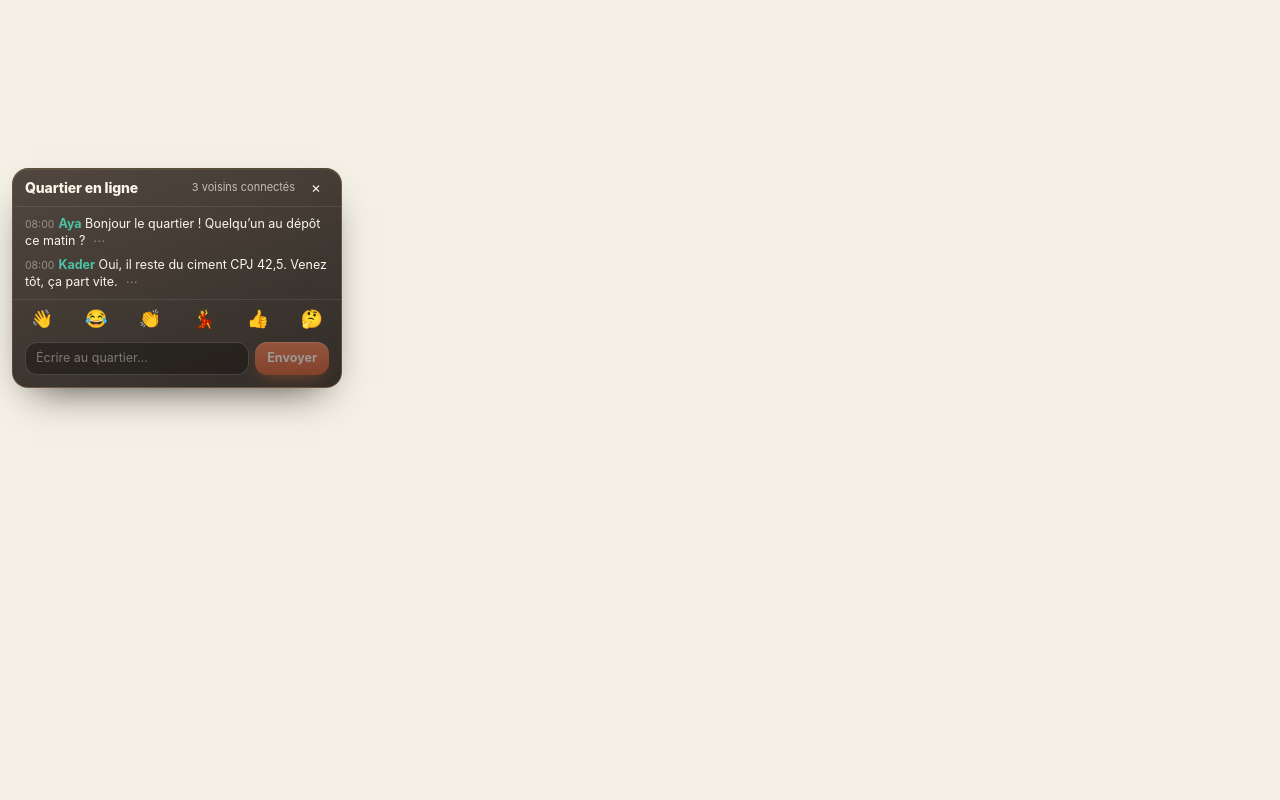
Test case: signaler un message et masquer un joueur › ne propose pas de signaler ses propres messages
The width and height of the screenshot is (1280, 800).
Type "Je passe au dépôt" into the field named "Message au quartier".
click(137, 359); type("Je passe au dépôt")  # box [25, 342, 249, 375]
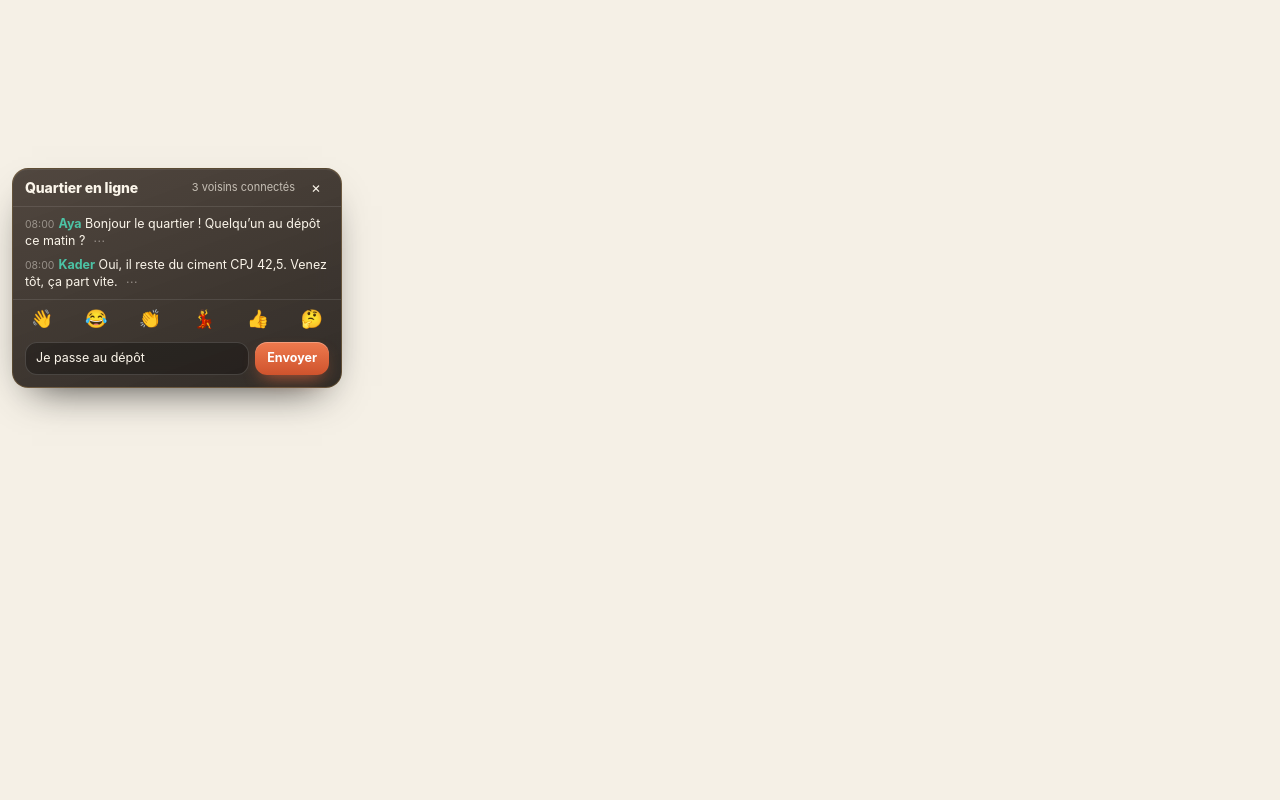
Click the button "Envoyer".
click(292, 359)  # box [255, 342, 329, 375]
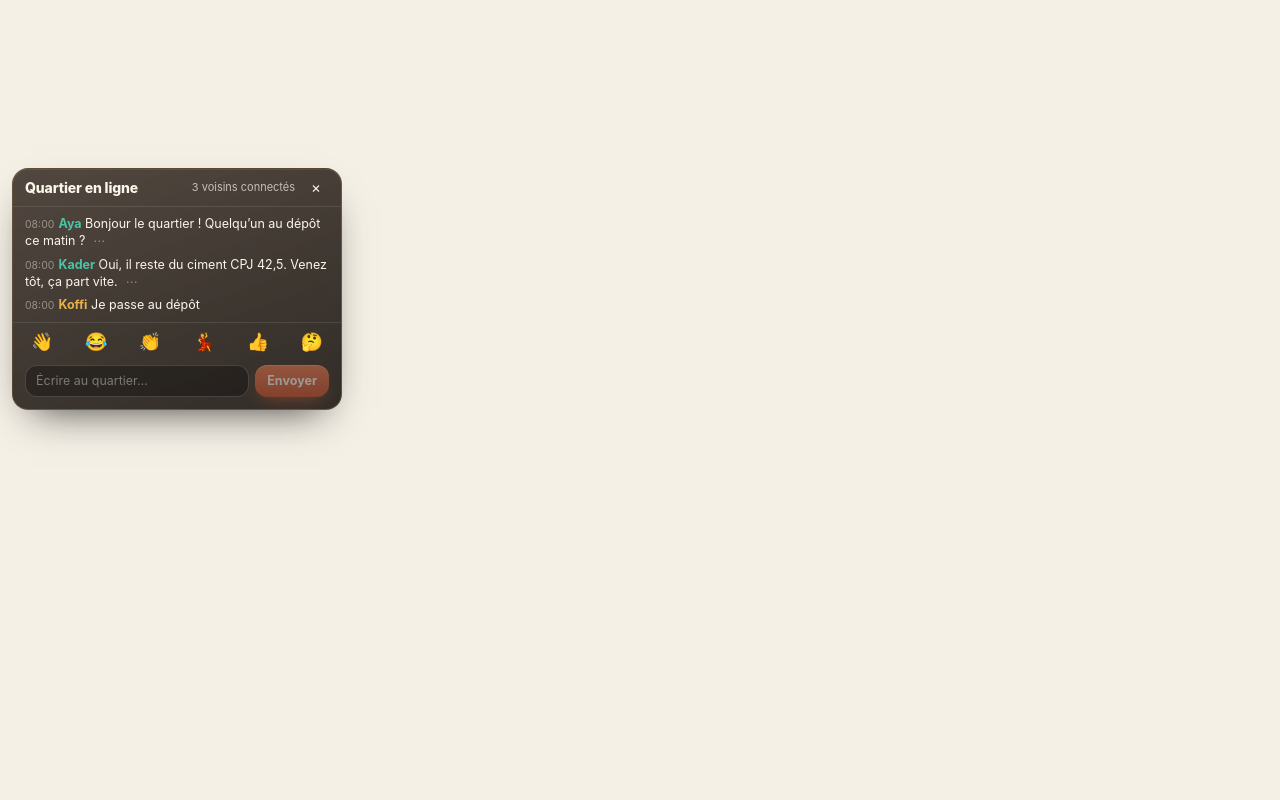
Expected: the text "Je passe au dépôt" is shown, [91, 297, 200, 312]
